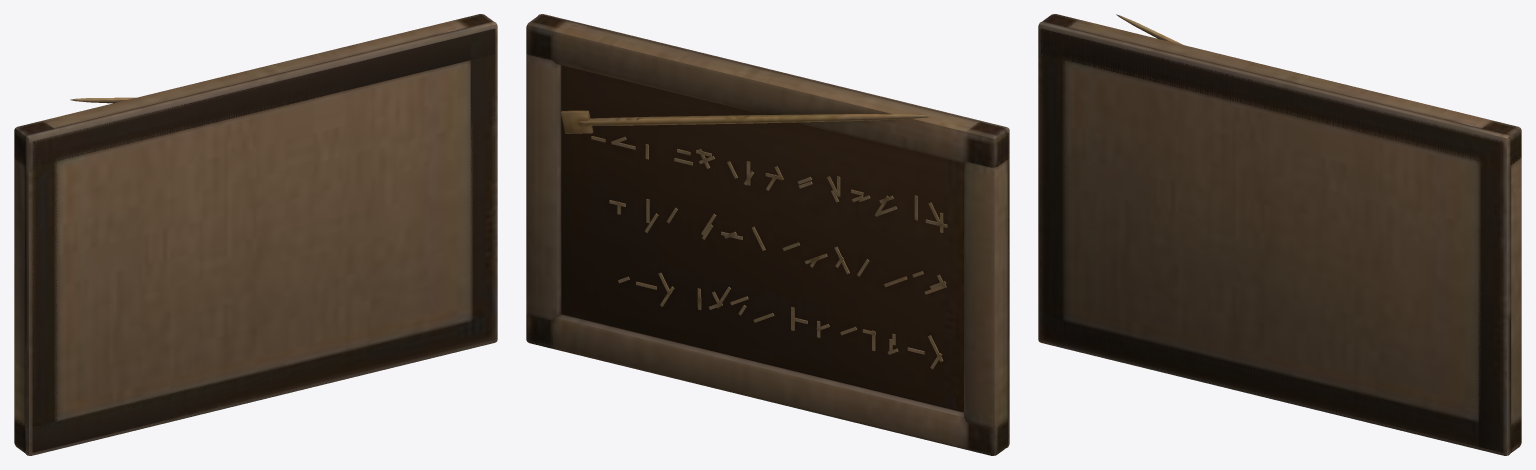
The model's file is wax_tablet.glb.
3 renders of one model, left to right at view 1: azimuth 30°, elevation 25°; view 2: azimuth 150°, elevation 25°; view 3: azimuth 330°, elevation 25°, orthographic.
Visible parts, largest first — view 1: wax_tablet; view 2: wax_tablet; view 3: wax_tablet.
Part boxes in pixels (<box>): wax_tablet: <box>14,14,497,455</box>; wax_tablet: <box>526,14,1009,455</box>; wax_tablet: <box>1038,14,1521,455</box>.
Bounding box in the file's own units: 0.2 × 0.1339 × 0.0156.
1 material, 1 textured.
